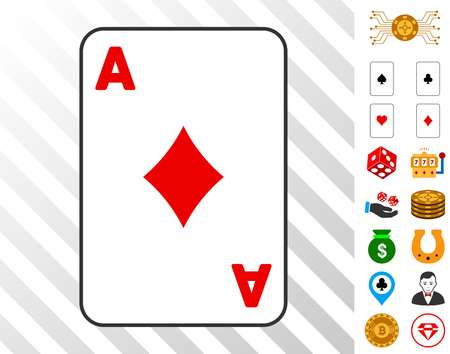ace of diamonds: (79, 25, 285, 324)
